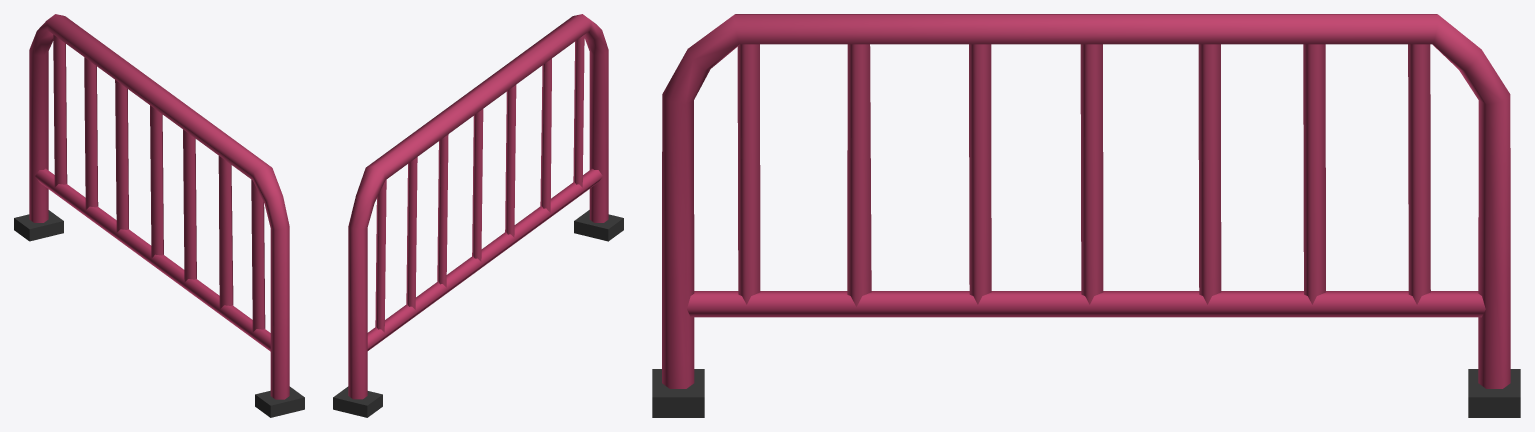
File: Barier_4_D.fbx
The picture shows the model from 3 angles, left to right: view 1: azimuth 30°, elevation 25°; view 2: azimuth 150°, elevation 25°; view 3: azimuth 270°, elevation 25°; orthographic projection. The views are drawn at different scales.
Parts seen in each view (by area): view 1: Barier_4_D; view 2: Barier_4_D; view 3: Barier_4_D.
Boxes of the visible parts, x1,y1,x2,y2 form: Barier_4_D: (14,14,304,417); Barier_4_D: (333,14,623,417); Barier_4_D: (652,14,1520,417).
Size of the model in its own units: 15.74 by 101 by 204.
